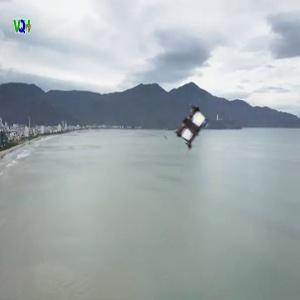drone: (160, 94, 223, 157)
